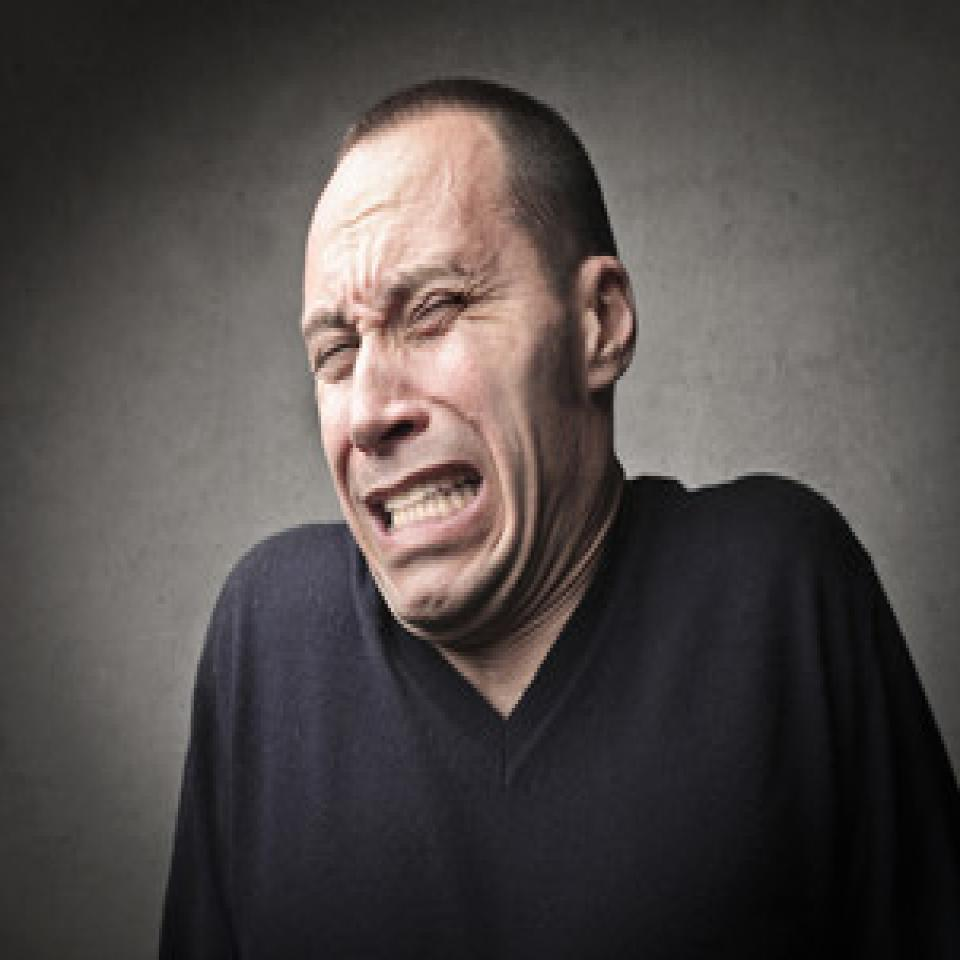Disgust: (306, 165, 601, 624)
